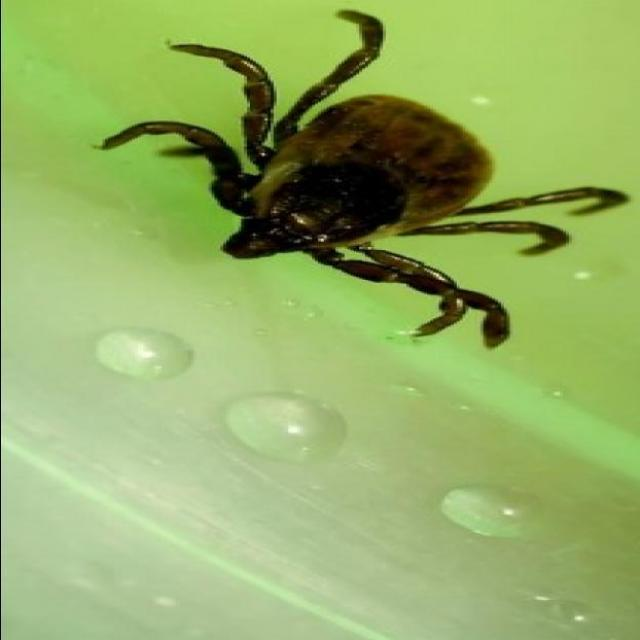Rhipicephalus Sanguineus-F: (92, 8, 630, 350)
